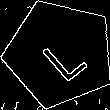L_NW: (30, 25, 88, 83)
